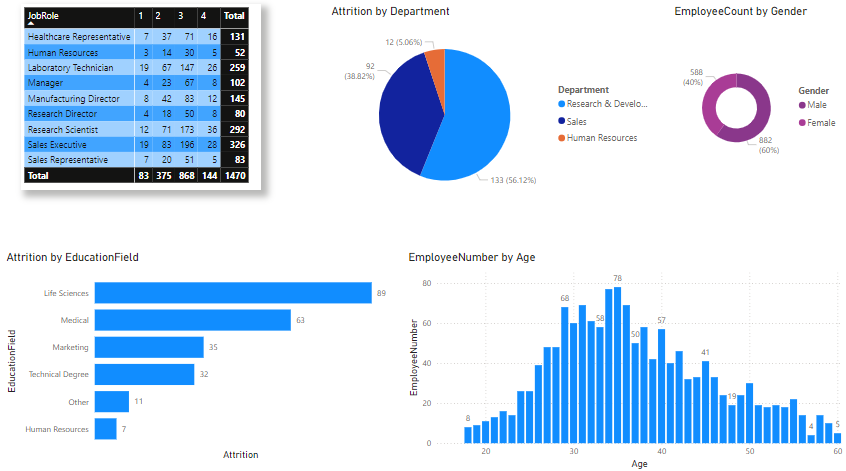

The page's visual inventory and layout, read from the dashboard file:
{"tool":"powerbi","page":{"name":"Page 1","canvas":[1280,720],"ordinal":0},"visuals":[{"type":"pieChart","fields":{"Category":["WA_Fn-UseC_-HR-Employee-Attrition.Department"],"Y":["WA_Fn-UseC_-HR-Employee-Attrition.Count of Attrition for Yes"]},"box":[495.9,20.9,494.4,312.2],"z":0},{"type":"textbox","box":[1093,0,187,720],"z":1000},{"type":"clusteredColumnChart","fields":{"Category":["WA_Fn-UseC_-HR-Employee-Attrition.Age"],"Y":["CountNonNull(WA_Fn-UseC_-HR-Employee-Attrition.EmployeeNumber)","select"]},"box":[611,388.4,658.8,331.6],"z":2000},{"type":"donutChart","fields":{"Category":["WA_Fn-UseC_-HR-Employee-Attrition.Gender"],"Y":["CountNonNull(WA_Fn-UseC_-HR-Employee-Attrition.EmployeeCount)"]},"box":[1008.3,20.9,261.4,291.3],"z":3000},{"type":"pivotTable","fields":{"Rows":["WA_Fn-UseC_-HR-Employee-Attrition.JobRole"],"Columns":["WA_Fn-UseC_-HR-Employee-Attrition.JobInvolvement"],"Values":["CountNonNull(WA_Fn-UseC_-HR-Employee-Attrition.EmployeeNumber)"]},"box":[37.3,20.9,358.5,277.8],"z":5000},{"type":"clusteredBarChart","fields":{"Category":["WA_Fn-UseC_-HR-Employee-Attrition.EducationField"],"Y":["WA_Fn-UseC_-HR-Employee-Attrition.Count of Attrition for Yes"]},"box":[10.5,388.4,578.1,318.2],"z":5001}]}

Visuals, with their boxes in screenshot pixels (x1, y1, x2, y2), scaled from the page's 1280x720 canvas onto the 846x471 screenshot:
pieChart - WA_Fn-UseC_-HR-Employee-Attrition.Department x WA_Fn-UseC_-HR-Employee-Attrition.Count of Attrition for Yes: [x1=328, y1=14, x2=655, y2=218]
textbox: [x1=722, y1=0, x2=845, y2=470]
clusteredColumnChart - WA_Fn-UseC_-HR-Employee-Attrition.Age x CountNonNull(WA_Fn-UseC_-HR-Employee-Attrition.EmployeeNumber): [x1=404, y1=254, x2=839, y2=470]
donutChart - WA_Fn-UseC_-HR-Employee-Attrition.Gender x CountNonNull(WA_Fn-UseC_-HR-Employee-Attrition.EmployeeCount): [x1=666, y1=14, x2=839, y2=204]
pivotTable - WA_Fn-UseC_-HR-Employee-Attrition.JobRole x WA_Fn-UseC_-HR-Employee-Attrition.JobInvolvement: [x1=25, y1=14, x2=262, y2=195]
clusteredBarChart - WA_Fn-UseC_-HR-Employee-Attrition.EducationField x WA_Fn-UseC_-HR-Employee-Attrition.Count of Attrition for Yes: [x1=7, y1=254, x2=389, y2=462]
